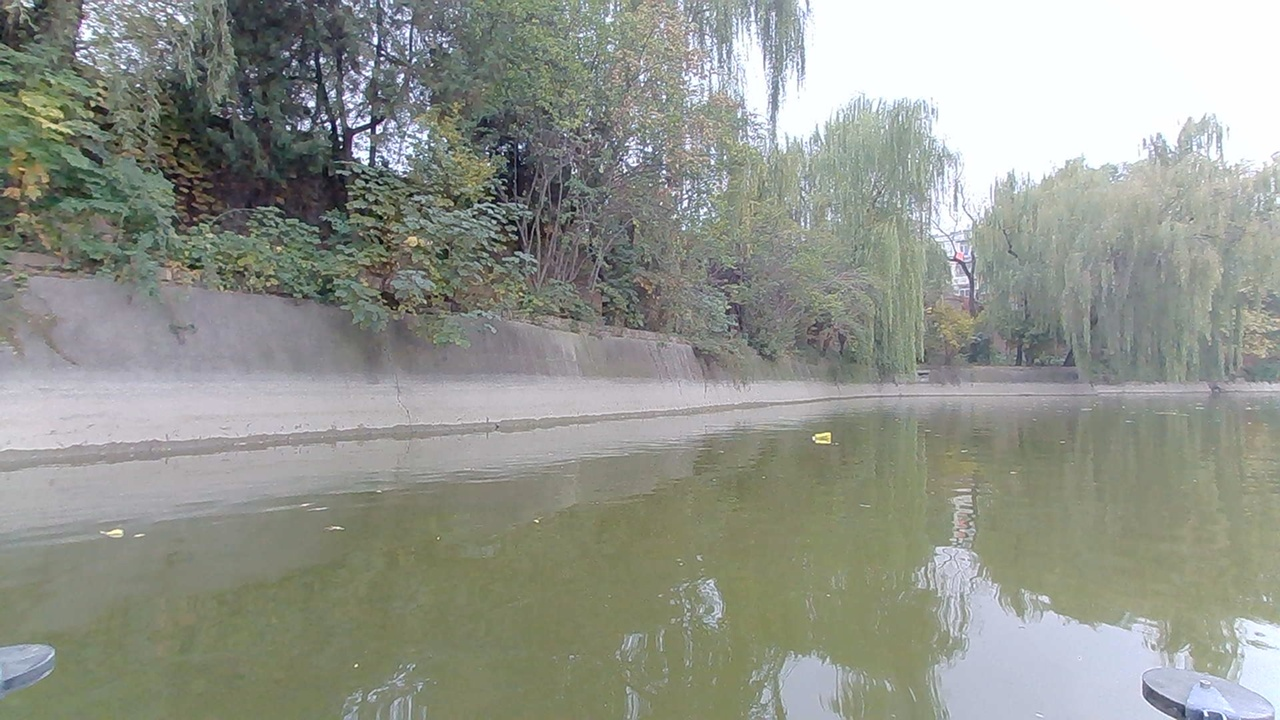bottle: (806, 426, 840, 449)
